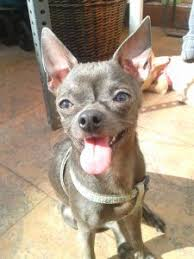chihuahua: (30, 17, 168, 256)
